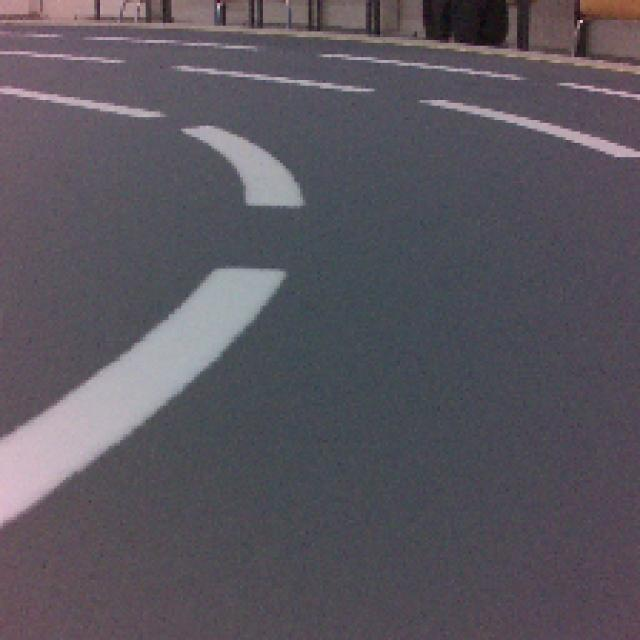Road: (0, 457, 640, 640)
